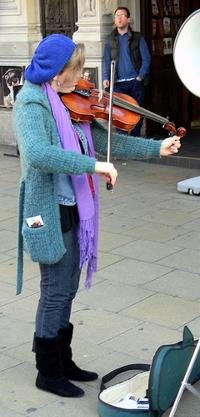person: (14, 35, 182, 399)
